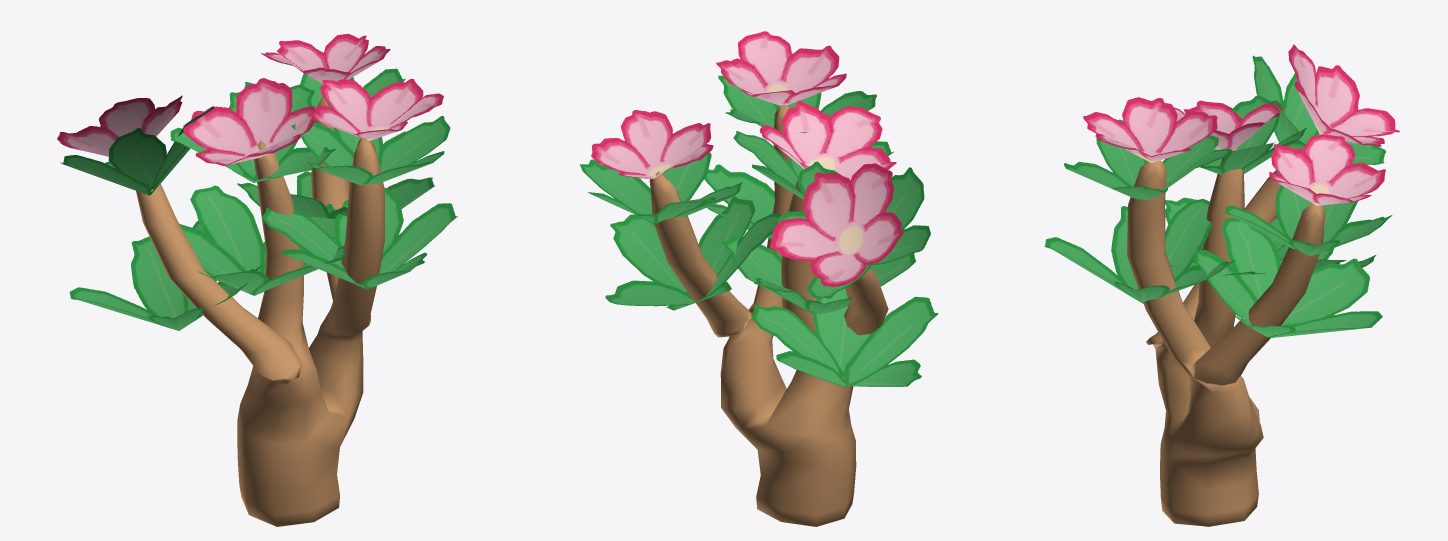
The model's file is DesertRose_Hand.fbx.
3 views of the same model, side by side, from view 1: azimuth 30°, elevation 25°; view 2: azimuth 150°, elevation 25°; view 3: azimuth 270°, elevation 25° (orthographic).
Visible parts, largest first — view 1: DesertRose, Leaves (×8), Flower (×4); view 2: Leaves (×8), DesertRose, Flower (×4); view 3: DesertRose, Leaves (×7), Flower (×4).
Part boxes in pixels (box(x1,y1,x2,y2)): DesertRose: box(136, 96, 384, 526); Leaves (×8): box(60, 68, 457, 330); Flower (×4): box(57, 33, 443, 165); Leaves (×8): box(580, 75, 938, 386); DesertRose: box(649, 104, 888, 526); Flower (×4): box(591, 31, 903, 286); DesertRose: box(1127, 143, 1325, 526); Leaves (×7): box(1044, 55, 1392, 337); Flower (×4): box(1083, 44, 1399, 205).
Size of the model in its own units: 1.17 by 1.16 by 0.989.
